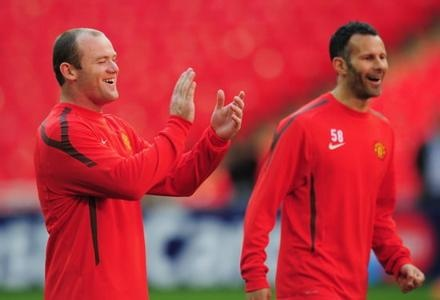person without safety: (273, 8, 418, 300), (28, 24, 155, 298)
